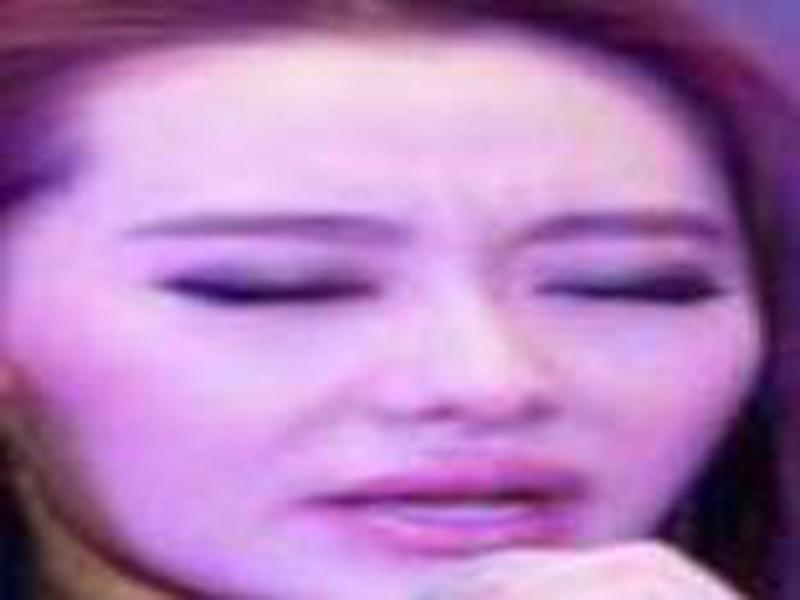without_mask: (19, 51, 759, 600)
